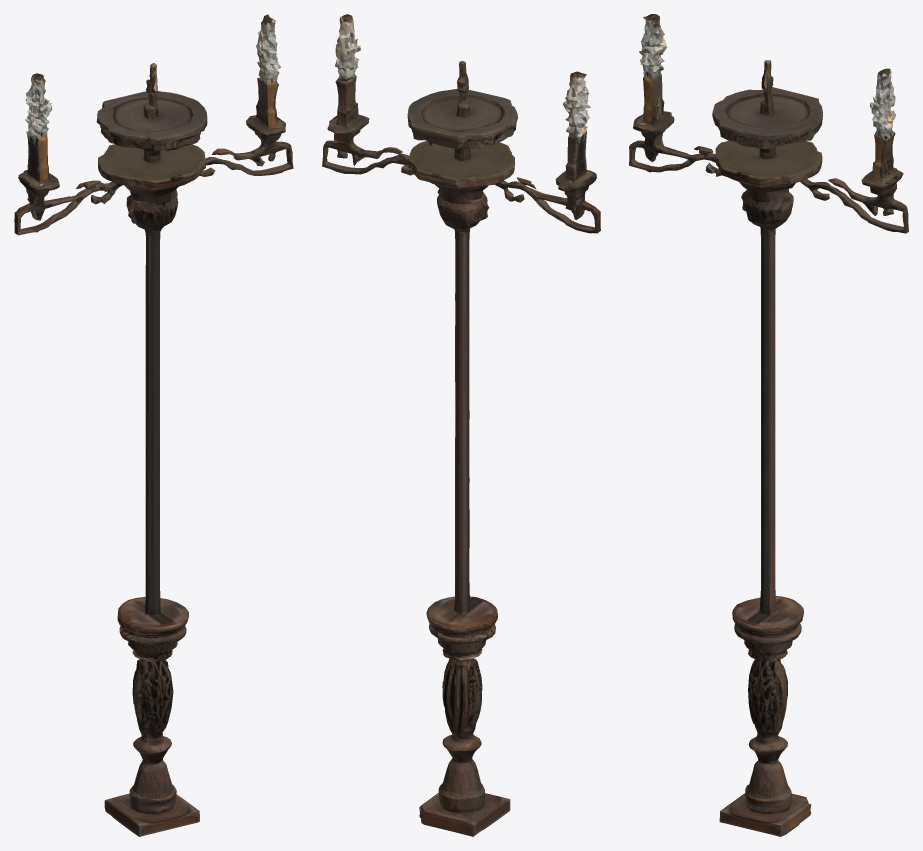
File: Torc_1.fbx
3 renders of one model, left to right at view 1: azimuth 30°, elevation 25°; view 2: azimuth 150°, elevation 25°; view 3: azimuth 330°, elevation 25°, orthographic.
Parts seen in each view (by area): view 1: temp; view 2: temp; view 3: temp.
Part boxes in pixels (<box>): temp: <box>14,14,293,836</box>; temp: <box>322,14,600,836</box>; temp: <box>629,14,908,836</box>.
Size of the model in its own units: 74.26 by 198 by 24.51.
1 material, 1 textured.
